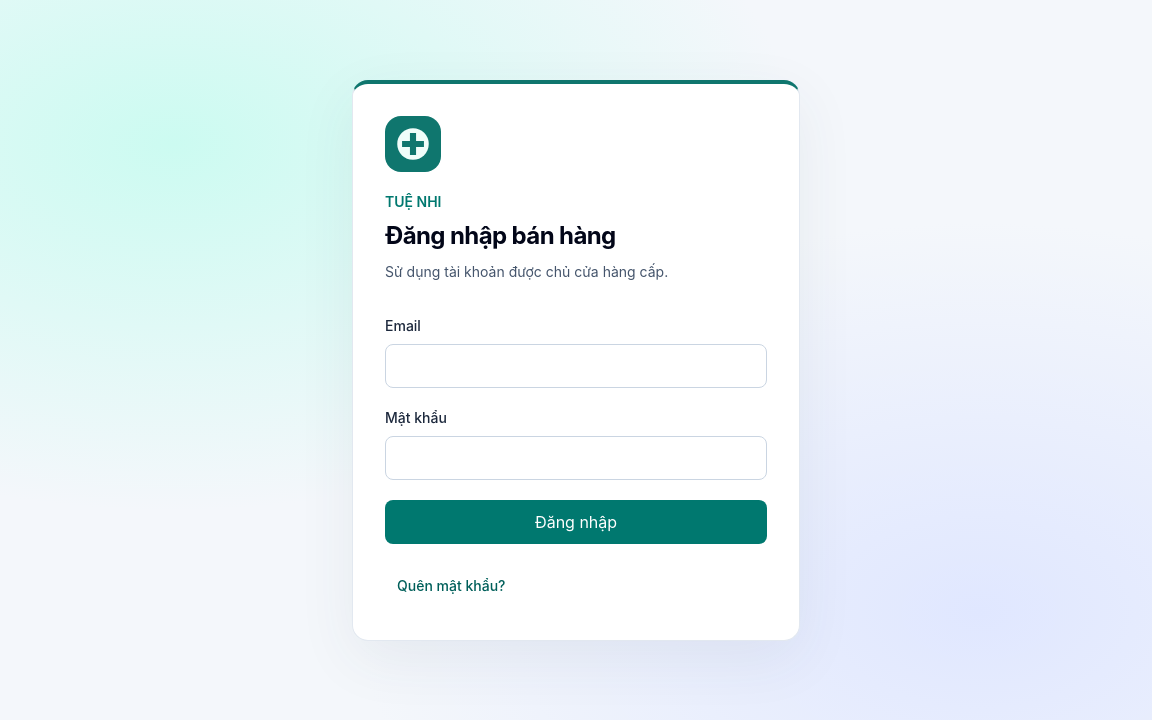
Test: LoginPage › uses safe copy when credentials are rejected
Type "owner@example.com" into the field labelled "Email". click: (576, 366)
box: [385,344,767,388]
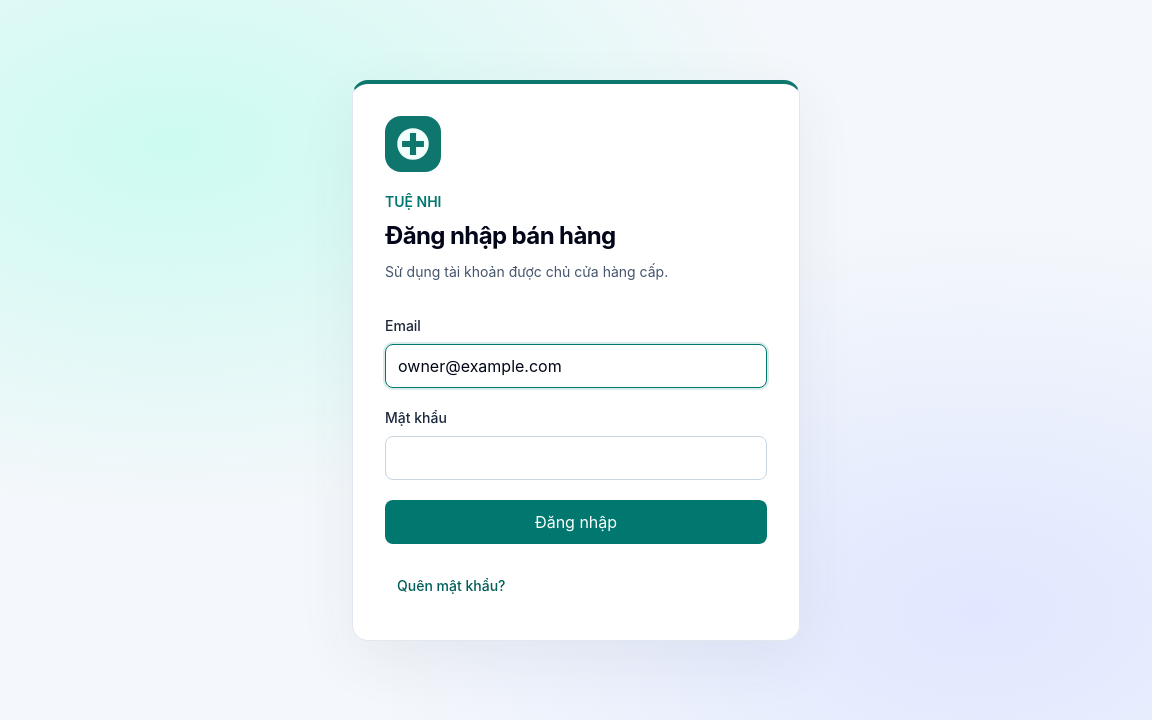
Type "Matkhau123" into the password field labelled "Mật khẩu". click: (576, 458)
box: [385,436,767,480]
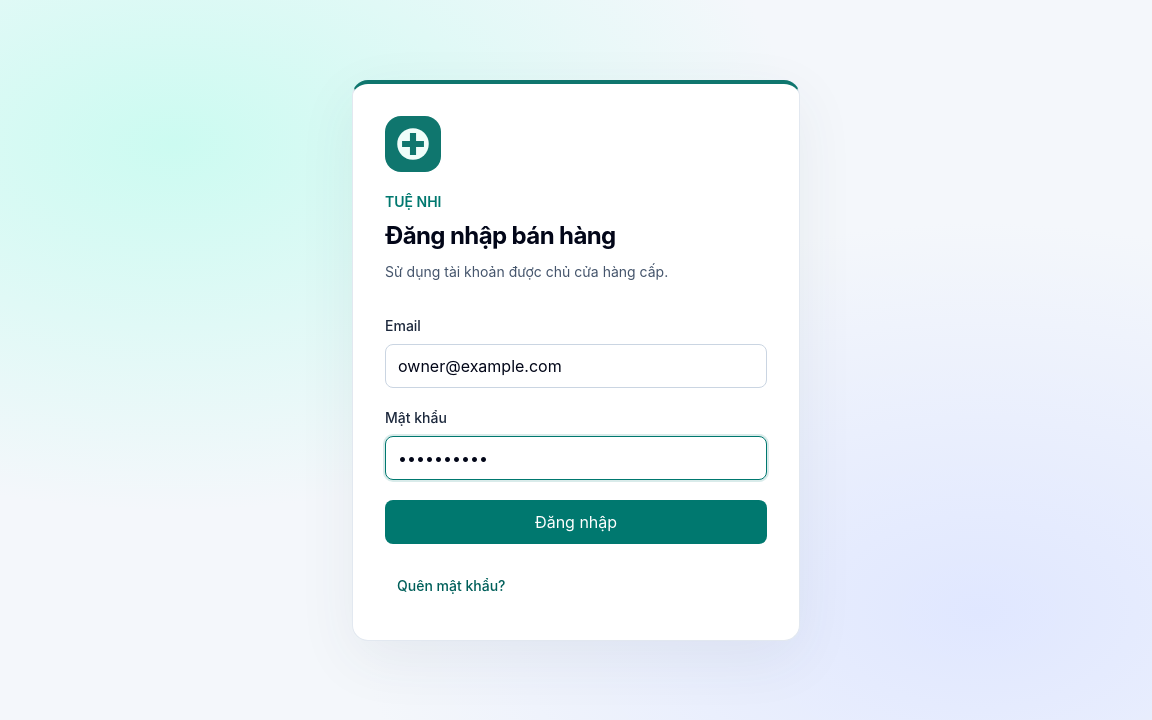
Click the button "Đăng nhập". click: (576, 522)
box: [385,500,767,544]
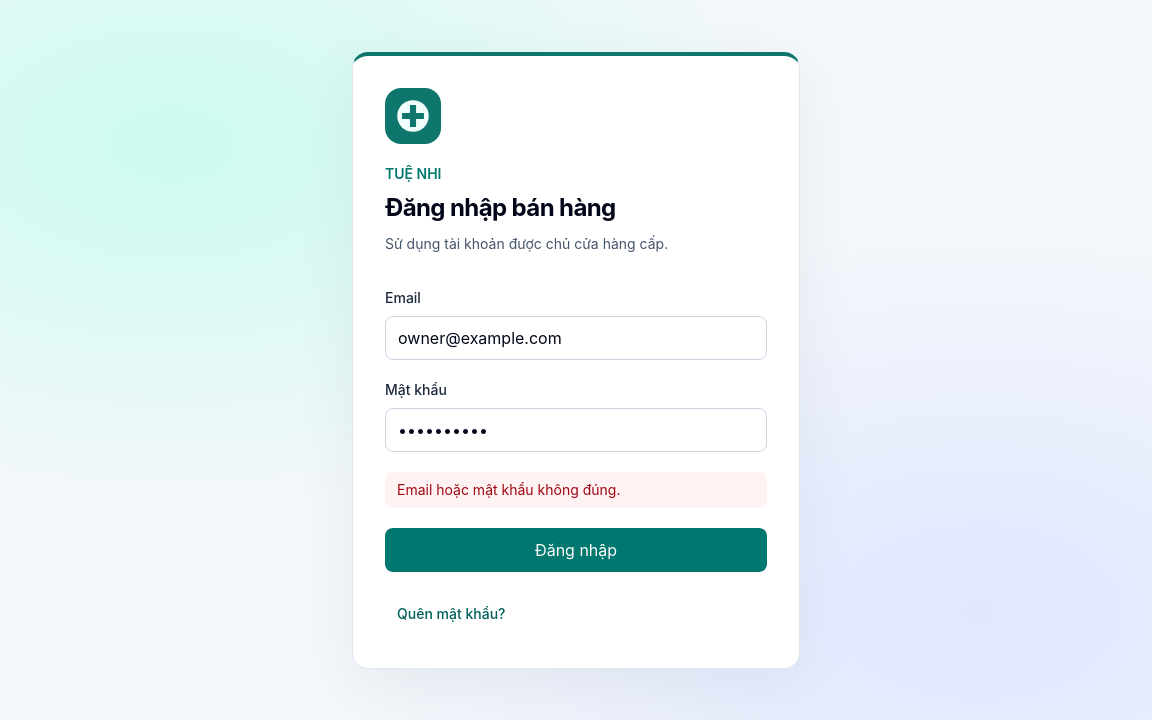
Expected: the text "Email hoặc mật khẩu không đúng." is shown, [385,472,767,508]
